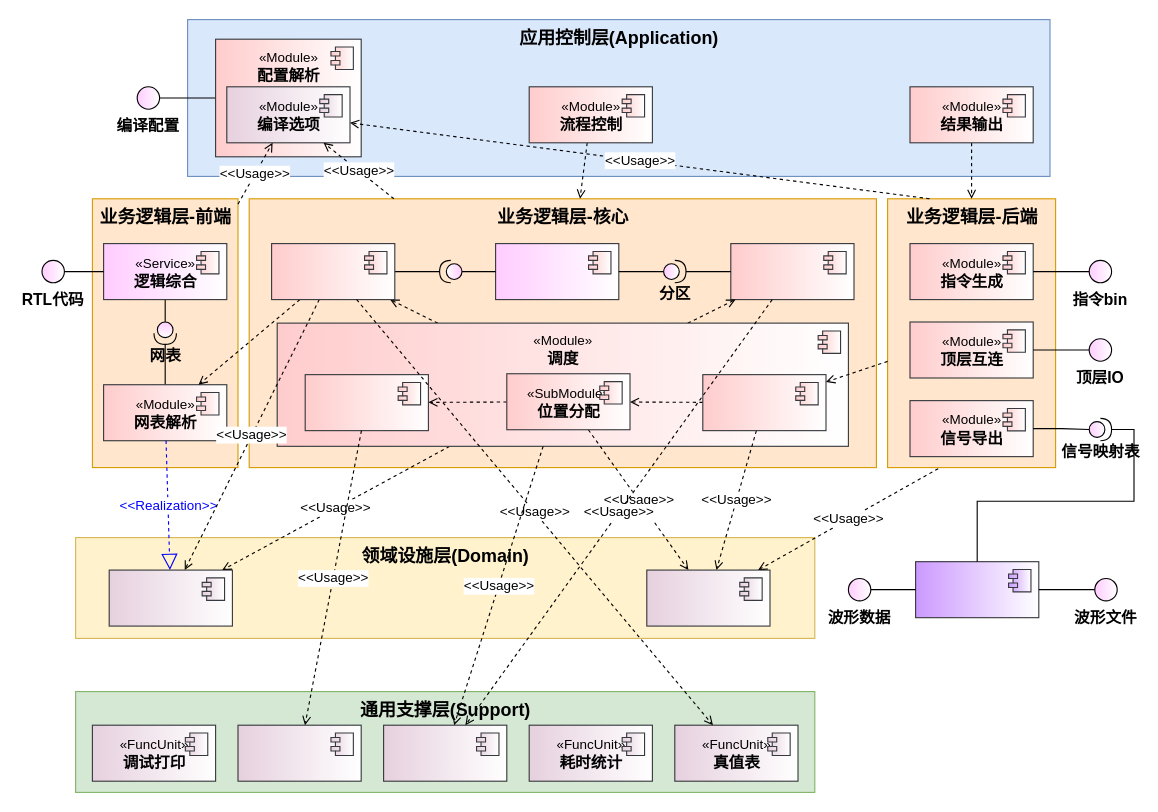
This 1158x812 diagram has some shape labels left out. The shapes that lost their labels are listed below. From the top down, each one's centre as x and y in pixels, then its label:
At pixel 332 271: "«Module» 网表优化".
At pixel 450 271: "超图".
At pixel 556 271: "«Service» 网表分割".
At pixel 792 271: "«Module» 分区布局".
At pixel 366 402: "«SubModule» 调度图".
At pixel 764 402: "«SubModule» 路由 布线".
At pixel 170 597: "«Module» 网表超图".
At pixel 708 597: "«Module» 仿真引擎".
At pixel 976 589: "«SubSystem» 波形恢复".
At pixel 299 752: "«Module» Digraph".
At pixel 444 752: "«Module» 线程池".
